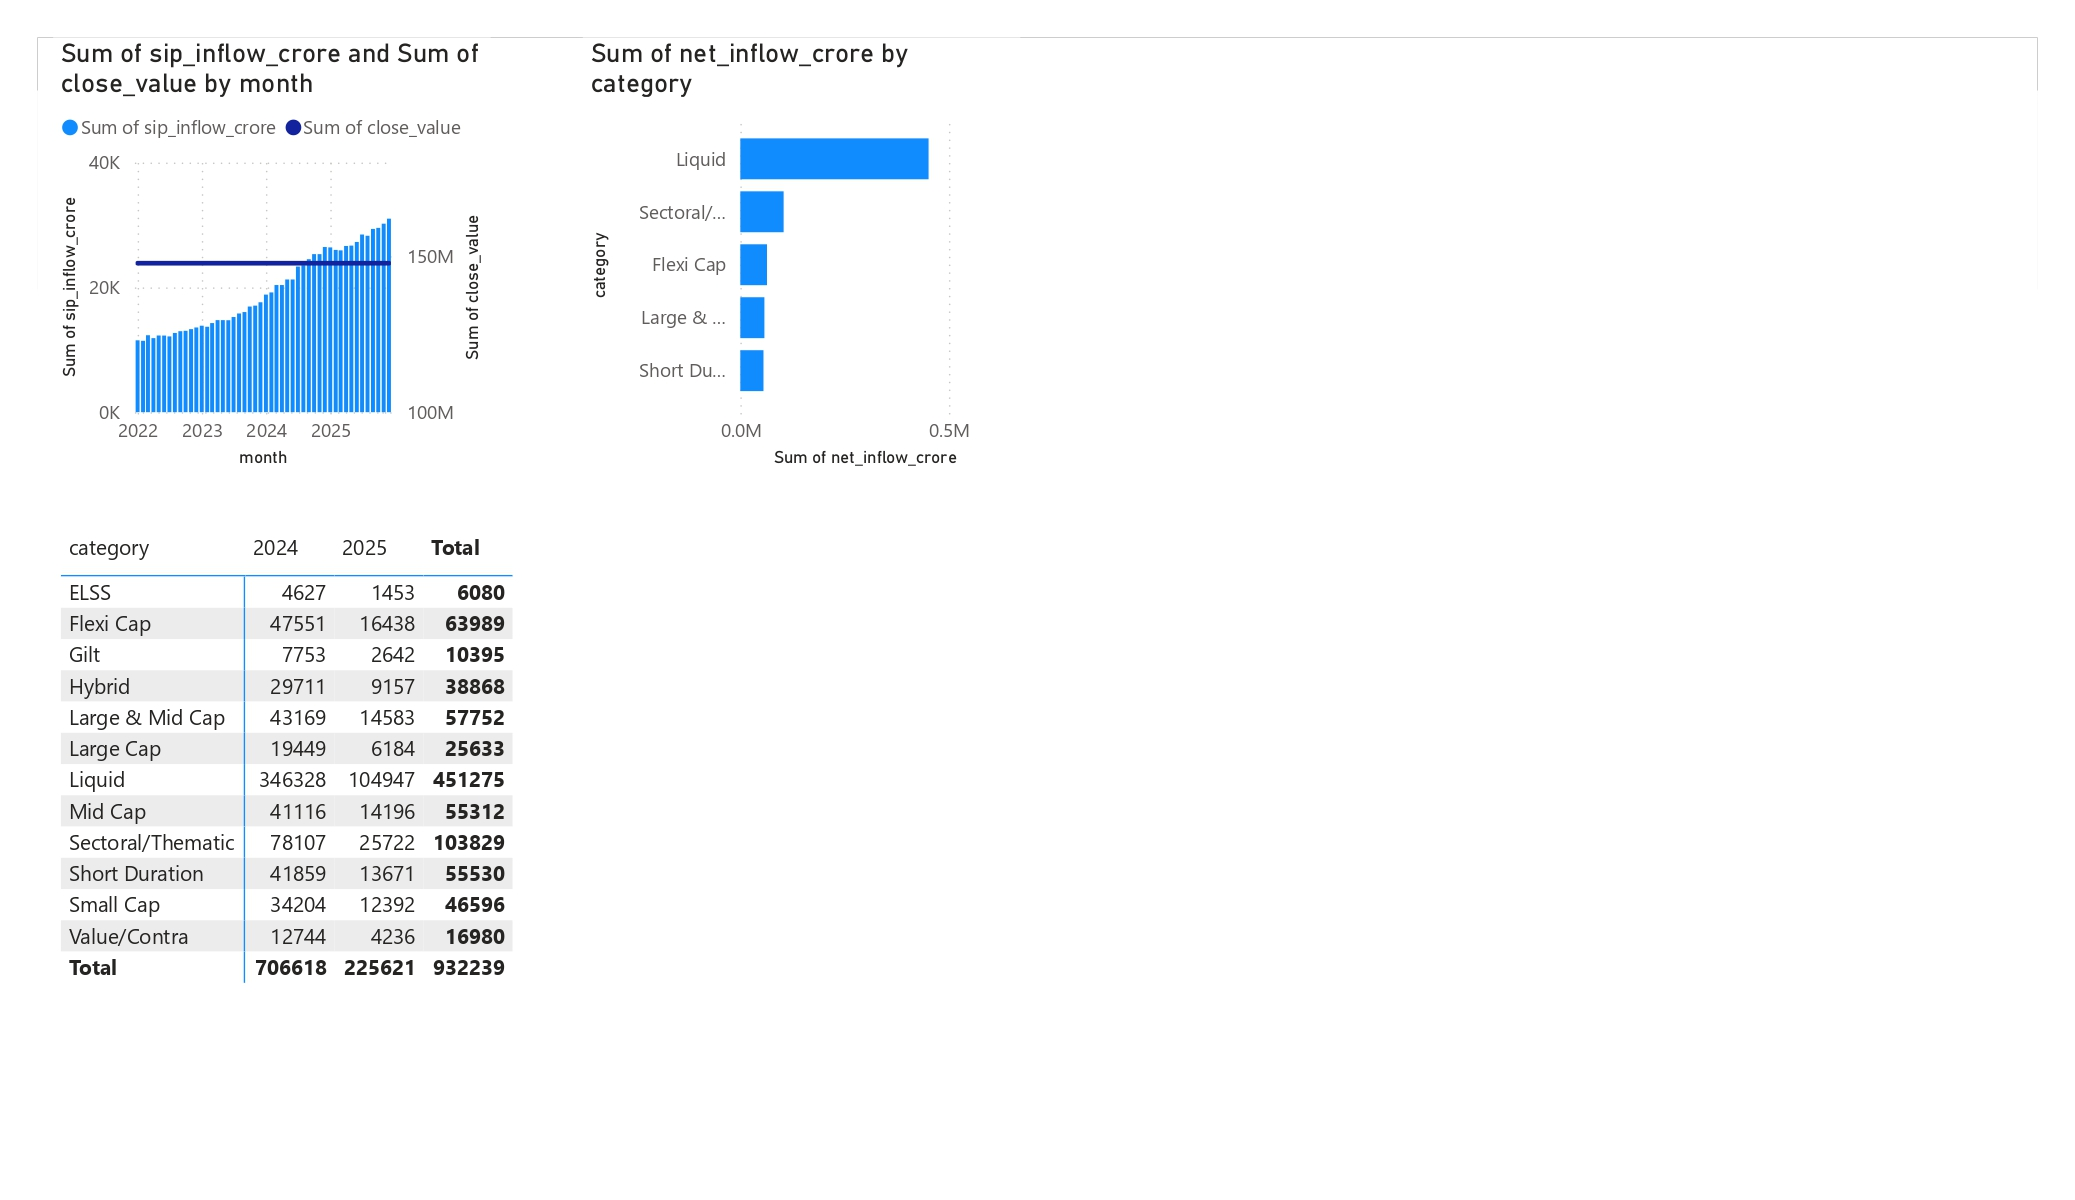

What the dashboard file says about the page in this screenshot:
{"tool":"powerbi","page":{"name":"SIP & Market Trends","canvas":[1280,720],"ordinal":3},"visuals":[{"type":"lineStackedColumnComboChart","fields":{"Category":["monthly_sip_inflows_cleaned.month"],"Y":["Sum(monthly_sip_inflows_cleaned.sip_inflow_crore)"],"Y2":["Sum(benchmark_indices_cleaned.close_value)"]},"box":[10,0,280,280],"z":0},{"type":"pivotTable","fields":{"Rows":["category_inflows_cleaned.category"],"Columns":["category_inflows_cleaned.month.Variation.Date Hierarchy.Year","category_inflows_cleaned.month.Variation.Date Hierarchy.Quarter","category_inflows_cleaned.month.Variation.Date Hierarchy.Month","category_inflows_cleaned.month.Variation.Date Hierarchy.Day"],"Values":["Sum(category_inflows_cleaned.net_inflow_crore)"]},"box":[9.6,311.5,329.3,315.6],"z":1},{"type":"clusteredBarChart","fields":{"Category":["category_inflows_cleaned.category"],"Y":["Sum(category_inflows_cleaned.net_inflow_crore)"]},"box":[349,0,280,280],"z":2}]}

Visuals, with their boxes on the page's 1280x720 design canvas (x1, y1, x2, y2). These are canvas units, not pixel positions in the 2075x1200 screenshot, which may show the page scaled, cropped or inside an application window:
lineStackedColumnComboChart - monthly_sip_inflows_cleaned.month x Sum(monthly_sip_inflows_cleaned.sip_inflow_crore): <box>10,0,290,280</box>
pivotTable - category_inflows_cleaned.category x category_inflows_cleaned.month.Variation.Date Hierarchy.Year: <box>10,312,339,627</box>
clusteredBarChart - category_inflows_cleaned.category x Sum(category_inflows_cleaned.net_inflow_crore): <box>349,0,629,280</box>
